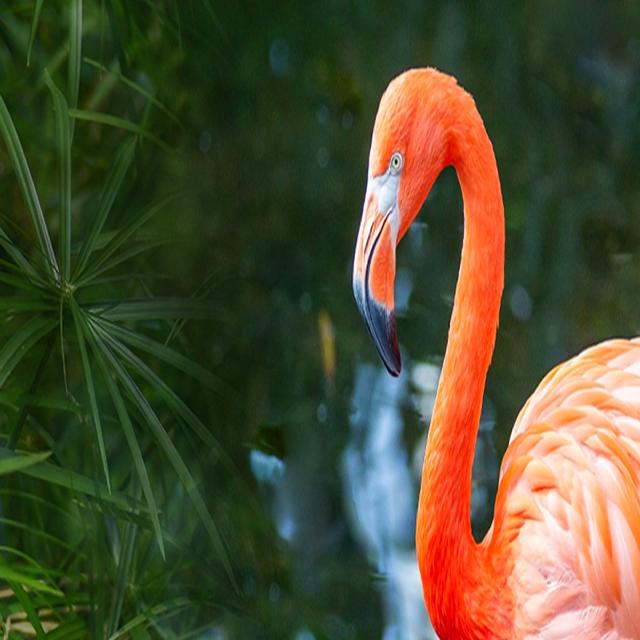flamingo: (353, 67, 639, 639)
